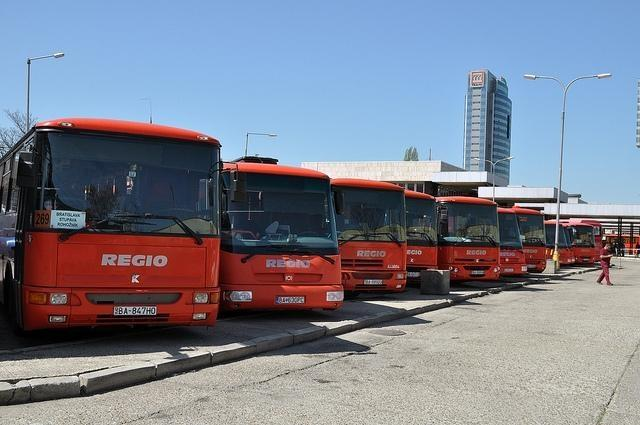bus: (1, 119, 226, 334), (224, 156, 345, 312), (333, 177, 407, 300), (435, 197, 500, 278), (404, 190, 438, 284), (515, 206, 549, 276), (497, 206, 527, 274), (564, 220, 602, 262), (560, 220, 596, 262), (544, 221, 576, 263), (602, 234, 640, 253)
